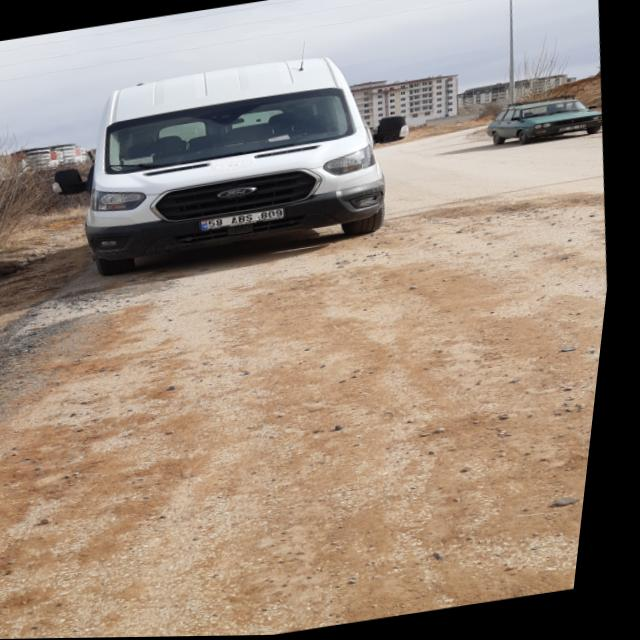plate: (205, 209, 290, 230)
